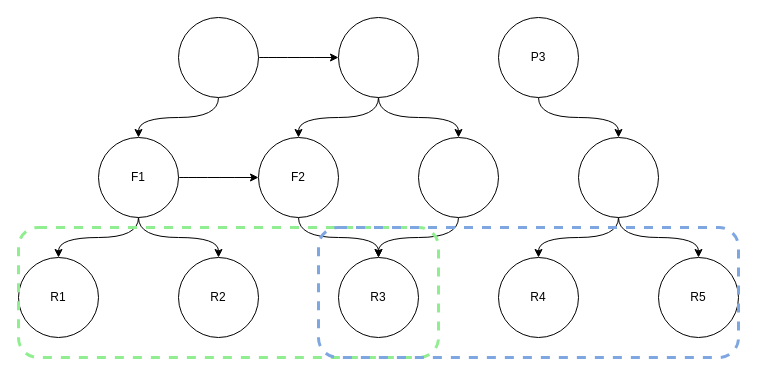
This 757x376 diagram has some shape labels left out. Here are the shapes that lost their labels. From the top down, the centre of each, then its label:
At point (218, 57): "P1".
At point (378, 57): "P2".
At point (458, 177): "F3".
At point (618, 177): "F4".
